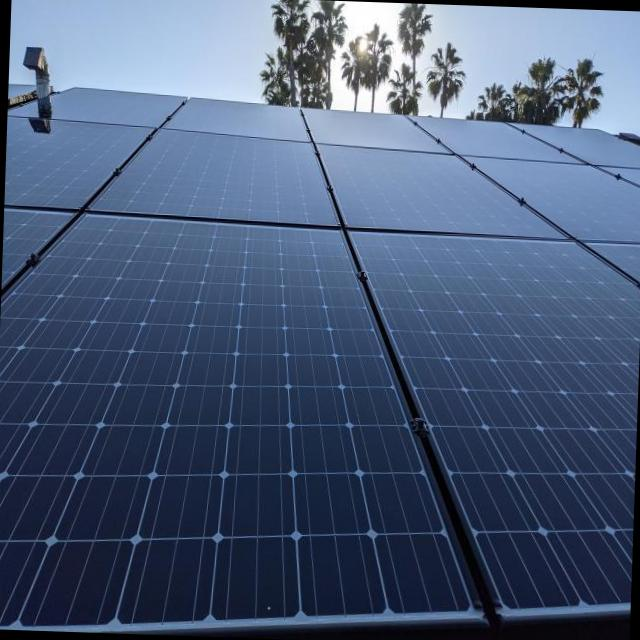no faulty: (0, 212, 472, 628), (350, 225, 640, 614), (91, 126, 339, 223), (320, 141, 564, 239), (15, 118, 150, 210)
